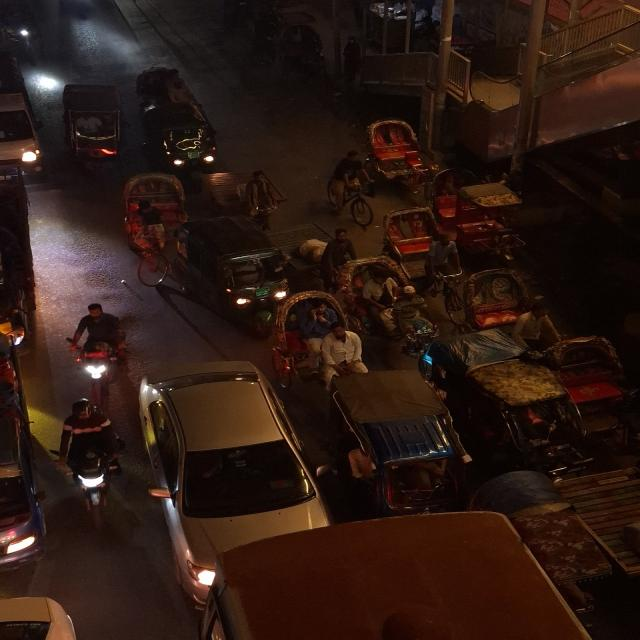bicycle: (323, 147, 376, 223), (234, 166, 288, 228)
car: (140, 362, 324, 602)
cng: (173, 214, 291, 316), (141, 100, 220, 172)
motorcycle: (54, 397, 123, 512), (64, 300, 131, 396)
rickshaw: (322, 368, 472, 518), (270, 289, 367, 391), (136, 61, 222, 173), (343, 258, 442, 354), (116, 169, 191, 287), (431, 166, 523, 248), (378, 206, 457, 295), (450, 264, 545, 334), (64, 301, 133, 397), (362, 116, 438, 198), (59, 81, 128, 165), (322, 147, 370, 224), (0, 0, 44, 50)
truck: (0, 43, 43, 177)
